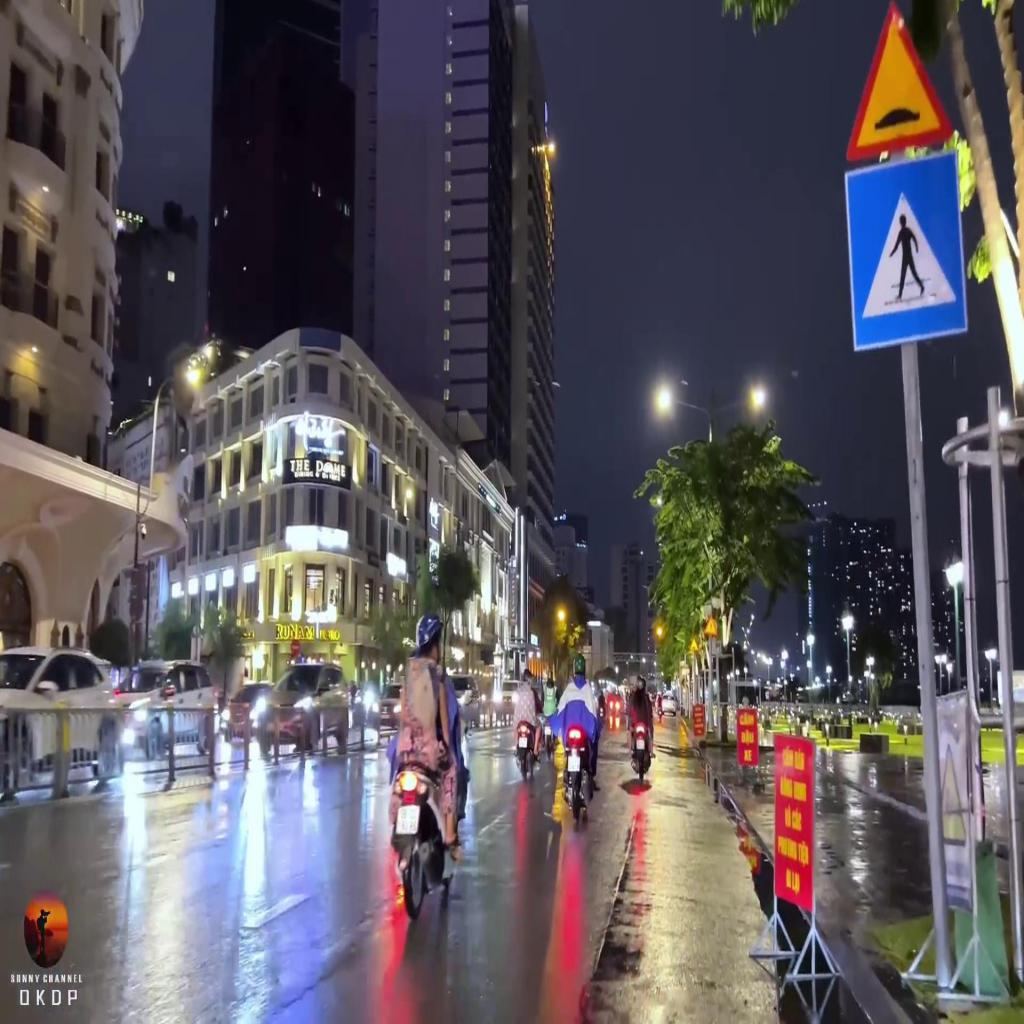chu_y_nguoi_di_bo_cat_ngang: (703, 613, 717, 637)
duong_co_song_map_mo_nhan_tao: (844, 4, 956, 160)
duong_nguoi_di_bo_sang_ngang: (844, 154, 968, 352)
